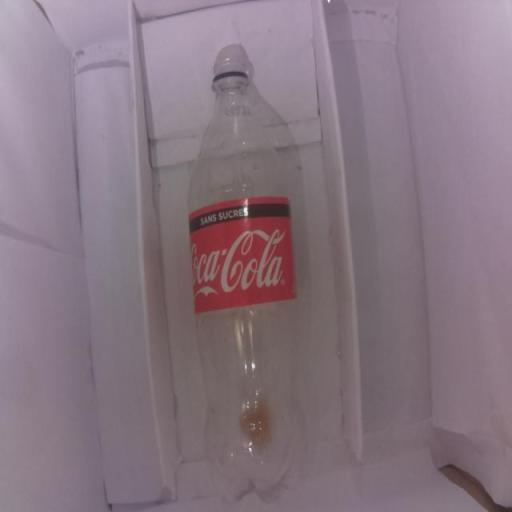bottle: (173, 38, 317, 512)
